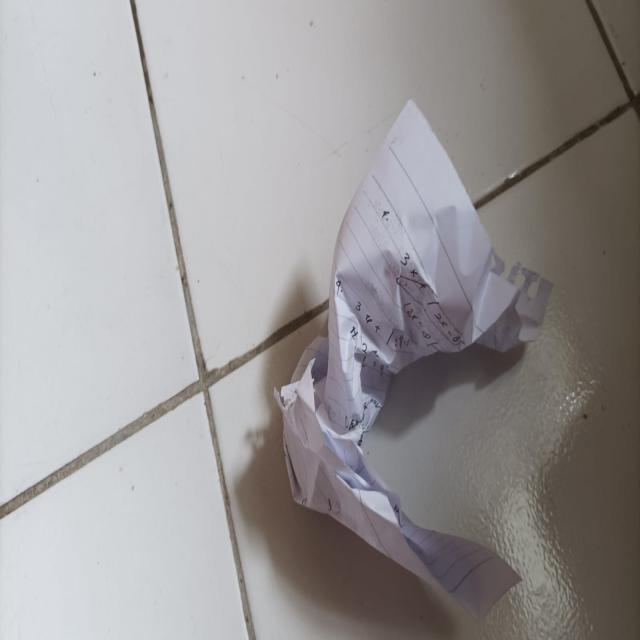Organik: (270, 90, 555, 640)
